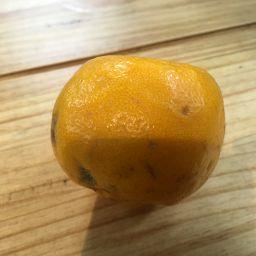Unripe: (51, 57, 224, 204)
